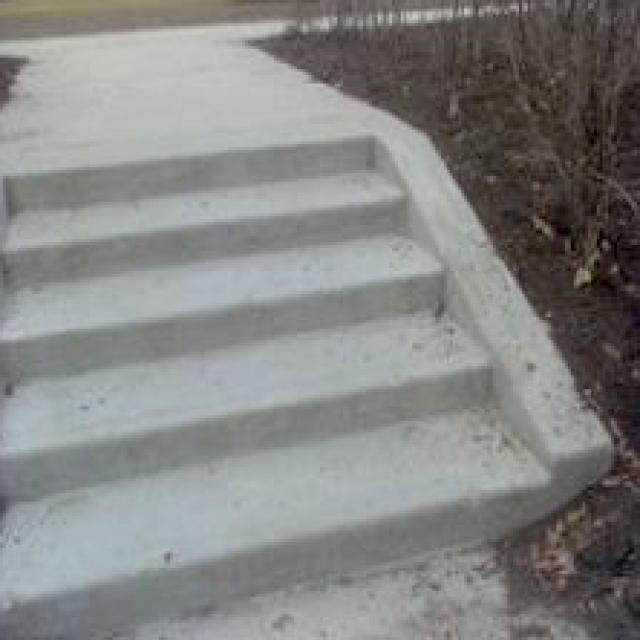upstair: (7, 171, 529, 555)
